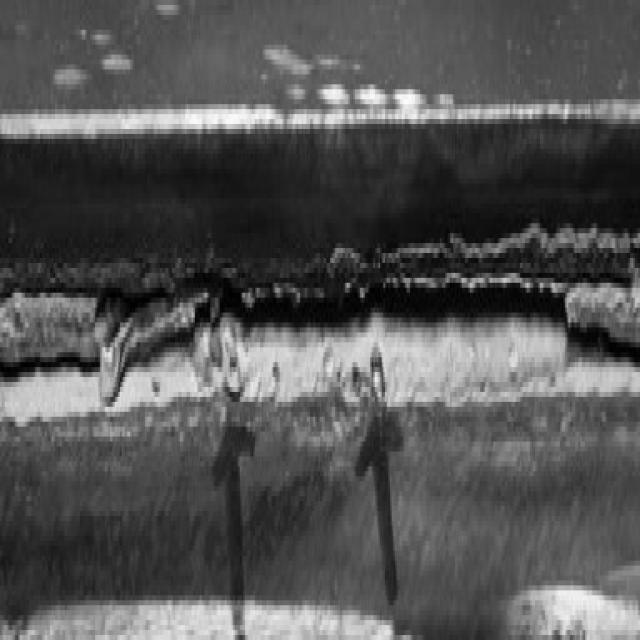Bad Welding: (0, 109, 638, 401)
Crack: (252, 258, 638, 377), (2, 318, 195, 372)
